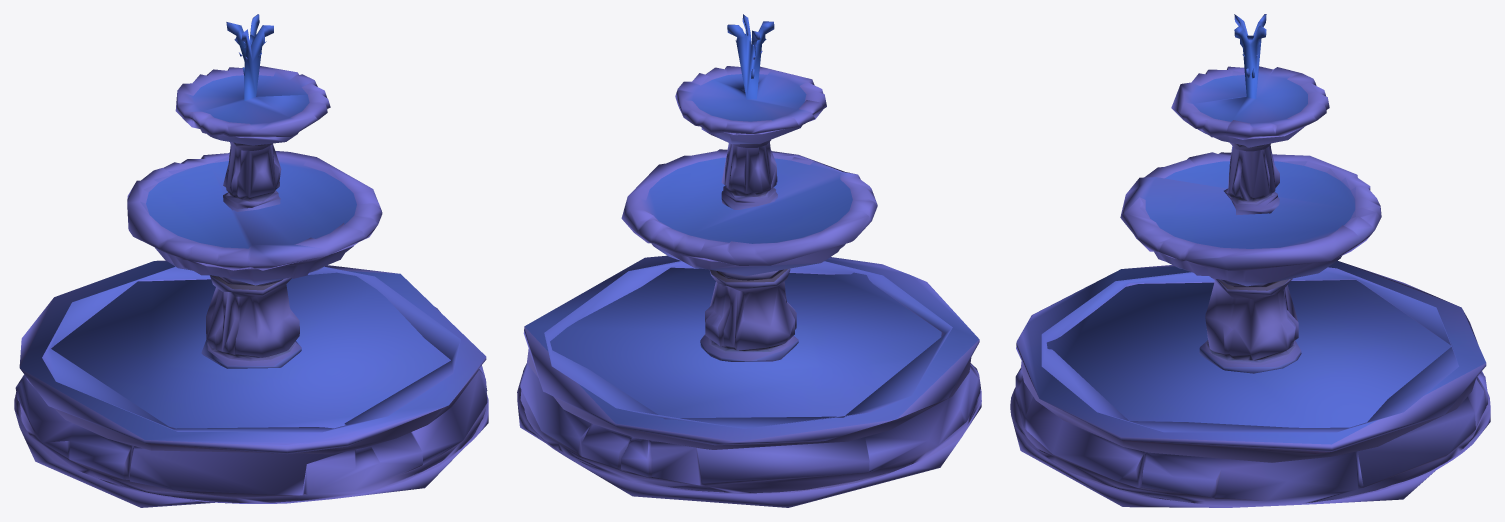
The model's file is model.progressive.glb.
The picture shows the model from 3 angles, left to right: view 1: azimuth 30°, elevation 25°; view 2: azimuth 150°, elevation 25°; view 3: azimuth 270°, elevation 25°; orthographic projection. The views are drawn at different scales.
Parts seen in each view (by area): view 1: material; view 2: material; view 3: material.
Boxes of the visible parts, box(x1,y1,x2,y2) form: material: box(14, 14, 488, 507); material: box(517, 14, 981, 507); material: box(1010, 14, 1490, 507).
Bounding box in the file's own units: 1.89 × 1.74 × 1.9.
Materials: 1 (1 with a texture image).
